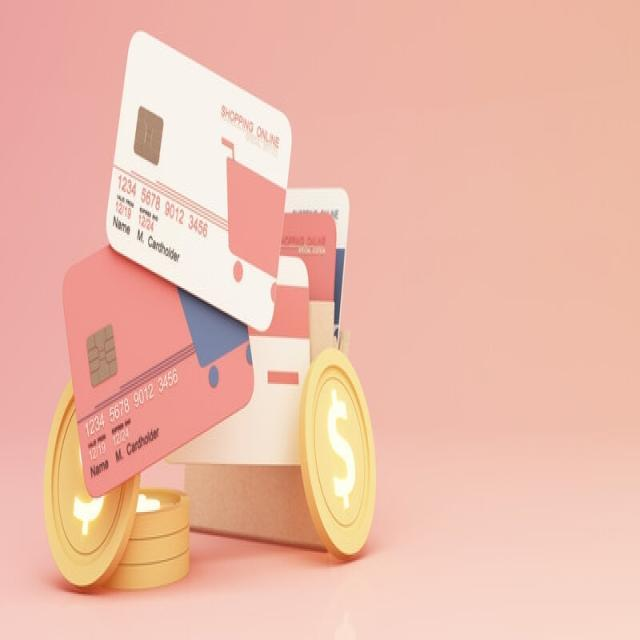payment_card: (103, 28, 293, 331)
